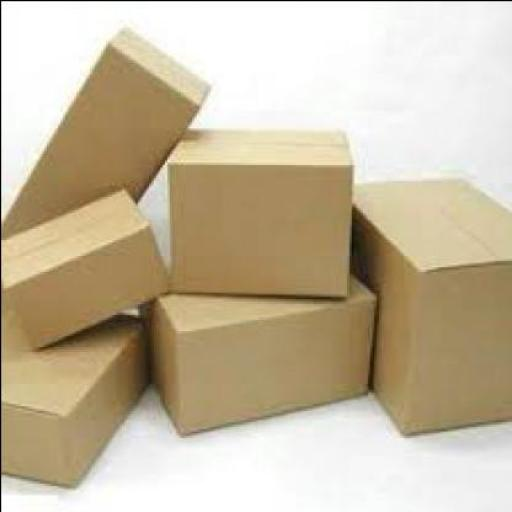cardboard: (2, 20, 210, 240), (354, 172, 511, 438), (143, 264, 380, 434), (168, 118, 355, 294), (2, 182, 172, 348), (3, 305, 150, 485)
